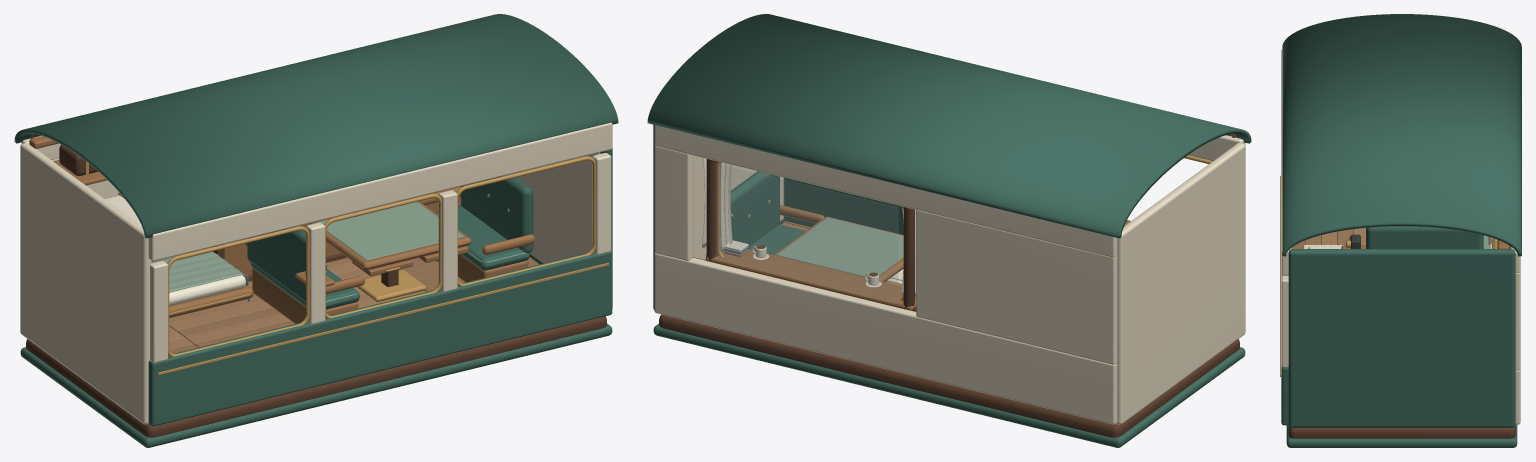
File: carriage.glb
3 views of the same model, side by side, from view 1: azimuth 30°, elevation 25°; view 2: azimuth 150°, elevation 25°; view 3: azimuth 270°, elevation 25° (orthographic). The views are drawn at different scales.
Visible parts, largest first — view 1: Continuous barrel roof, Front lower panel, Left end wall, Front upper panel, Carriage foundation, Exterior green skirt, Right end interior panel, Puzzle table green felt, Right upholstered back, Left upholstered back, Berth 0 draped blanket, Right velvet seat (+21 smaller); view 2: Continuous barrel roof, Window lower wall, Left end wall, Sleeping wall, Panorama glass, Window upper wall, Carriage foundation, Exterior green skirt, Puzzle table green felt, Window right pier, Deep window sill, Front lower panel (+7 smaller); view 3: Continuous barrel roof, Right end wall, Carriage foundation, Left upholstered back, Exterior green skirt, Front window pillar.003, Front upper panel, Window right pier, Front lower panel, Window lower wall.
Boxes of the visible parts, x1,y1,x2,y2 form: Continuous barrel roof: (14,14,618,238); Front lower panel: (148,251,612,426); Left end wall: (20,143,151,424); Front upper panel: (148,122,612,261); Carriage foundation: (26,316,606,437); Exterior green skirt: (20,323,612,447); Right end interior panel: (512,152,600,263); Puzzle table green felt: (316,202,464,260); Right upholstered back: (461,174,533,253); Left upholstered back: (247,226,305,302); Berth 0 draped blanket: (151,248,249,301); Right velvet seat: (435,206,529,270); Continuous barrel roof: (647,14,1251,238); Window lower wall: (654,253,1117,424); Left end wall: (1116,143,1245,424); Sleeping wall: (916,209,1117,364); Panorama glass: (716,163,898,303); Window upper wall: (654,125,1117,257); Carriage foundation: (659,314,1239,437); Exterior green skirt: (653,323,1245,447); Puzzle table green felt: (777,217,903,277); Window right pier: (654,145,693,260); Deep window sill: (705,249,916,310); Front lower panel: (784,178,903,234); Continuous barrel roof: (1282,14,1521,256); Right end wall: (1288,249,1515,427); Carriage foundation: (1288,229,1515,438); Left upholstered back: (1366,226,1483,248); Exterior green skirt: (1286,424,1517,447); Front window pillar.003: (1281,275,1288,367); Front upper panel: (1281,49,1291,275); Window right pier: (1515,271,1520,370); Front lower panel: (1281,366,1288,425); Window lower wall: (1515,369,1520,424).
Bounding box in the file's own units: 6.96 × 3.54 × 3.41.
